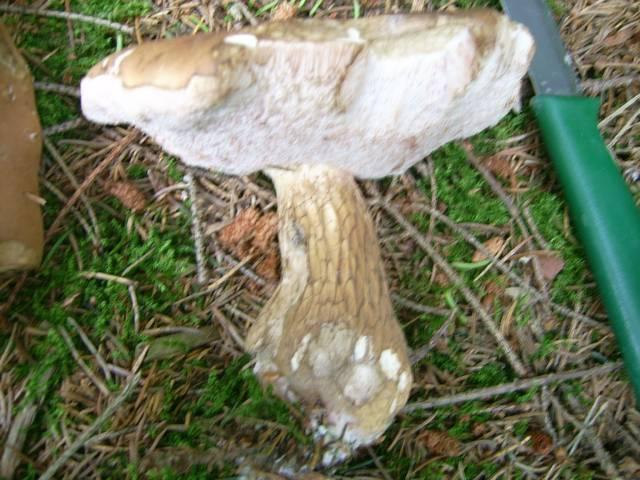poisonous_mushroom: (77, 7, 537, 470)
